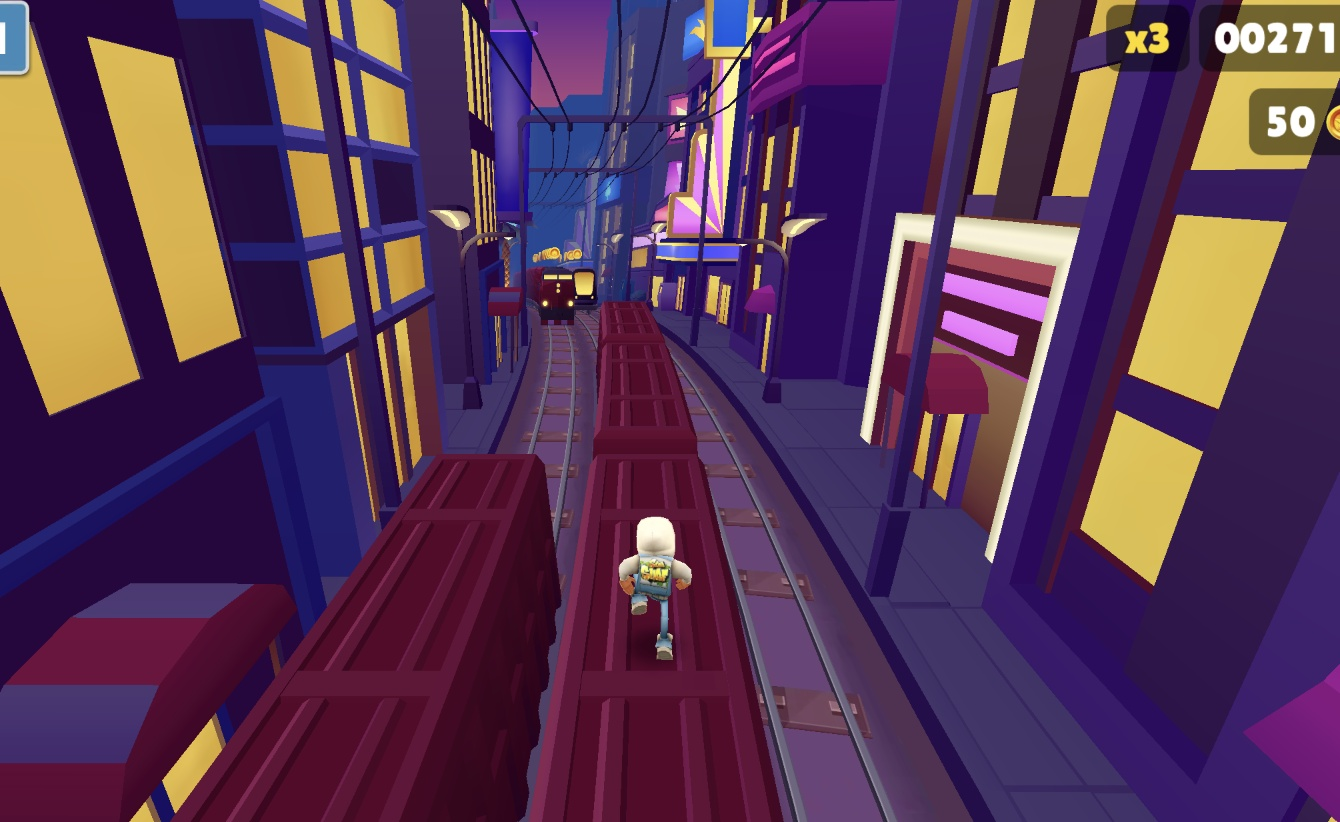train: (146, 451, 551, 822), (523, 305, 788, 822), (526, 266, 574, 325), (572, 268, 597, 310)
